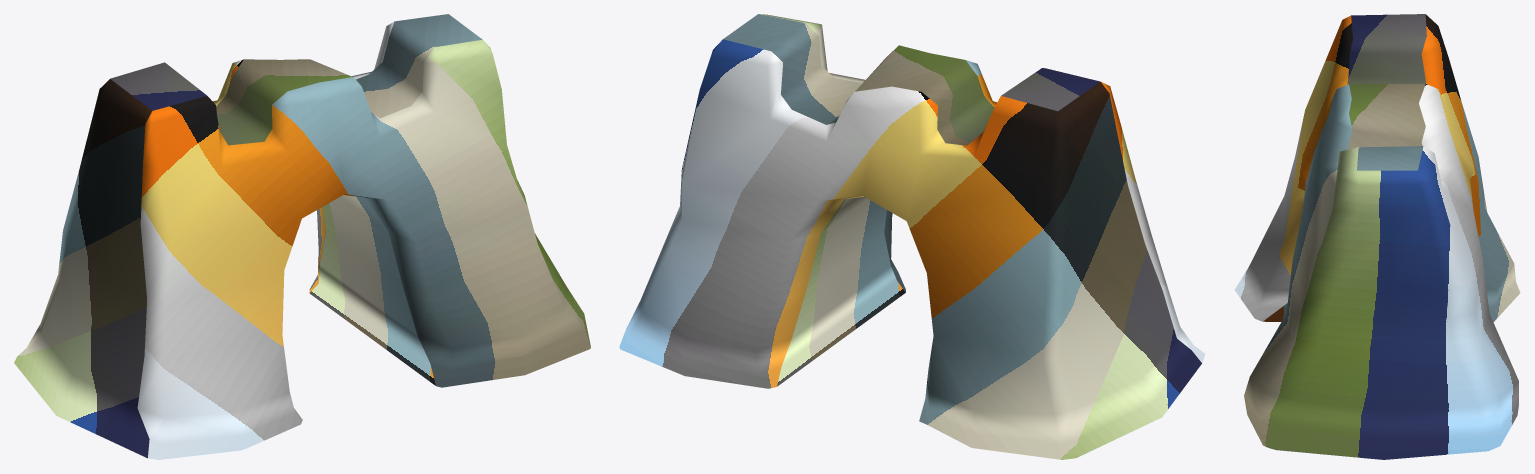
The model's file is Prop_SunlightSandcastleC.glb.
3 views of the same model, side by side, from view 1: azimuth 30°, elevation 25°; view 2: azimuth 150°, elevation 25°; view 3: azimuth 270°, elevation 25° (orthographic). The views are drawn at different scales.
Parts seen in each view (by area): view 1: Prop_SunlightSandcastleC; view 2: Prop_SunlightSandcastleC; view 3: Prop_SunlightSandcastleC.
Boxes of the visible parts, <box> form: Prop_SunlightSandcastleC: <box>14,14,590,459</box>; Prop_SunlightSandcastleC: <box>619,14,1205,459</box>; Prop_SunlightSandcastleC: <box>1234,14,1520,459</box>.
Size of the model in its own units: 3.57 by 2.12 by 2.02.
1 material, 1 textured.
